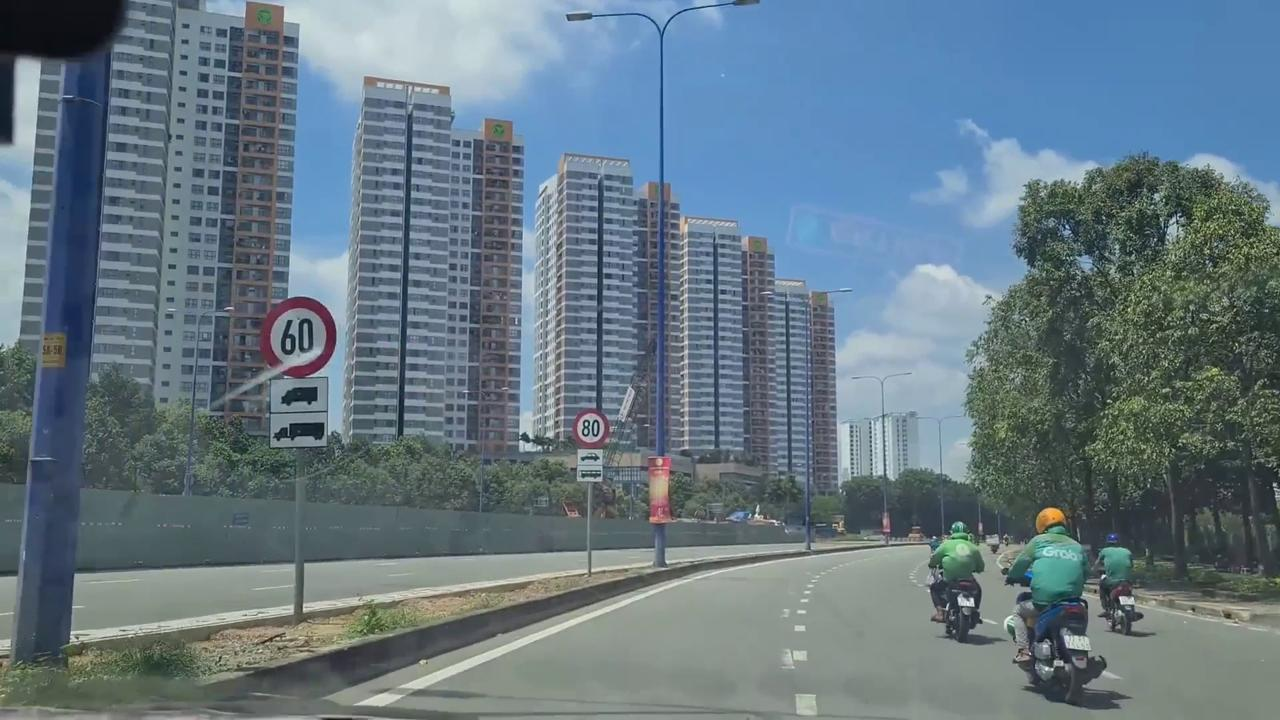Biển phụ: (268, 377, 329, 450), (576, 448, 604, 483)
GIơi hạn tốc độ 60Km/h: (259, 295, 340, 380)
Giới hạn tốc độ 80Km/h: (572, 408, 610, 448)
